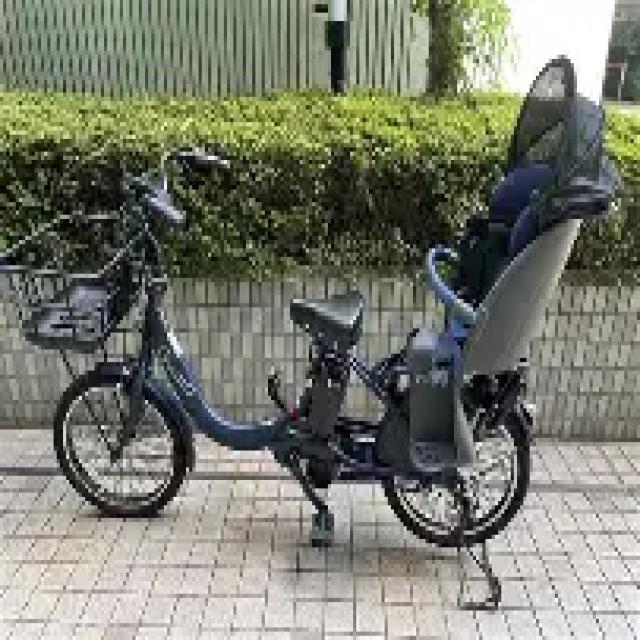basket: (2, 210, 147, 346)
battery: (310, 356, 347, 440)
childseat: (400, 55, 620, 480)
